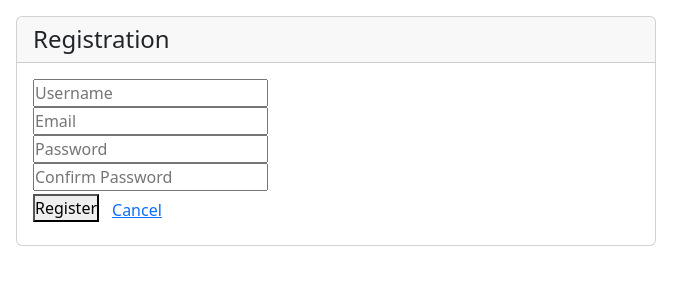
Test: Registration Page › displays error message on invalid credentials
The image size is (673, 303).
Type "testuser" into the field with placeholder "Username". click: (150, 93)
box: x1=33 y1=79 x2=268 y2=107
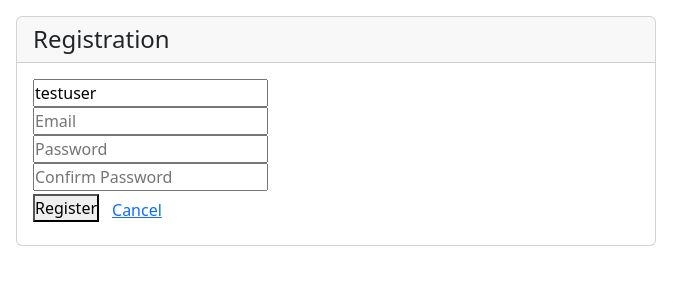
Type "invaliduser@test.com" into the field with placeholder "Email". click: (150, 121)
box: x1=33 y1=107 x2=268 y2=135
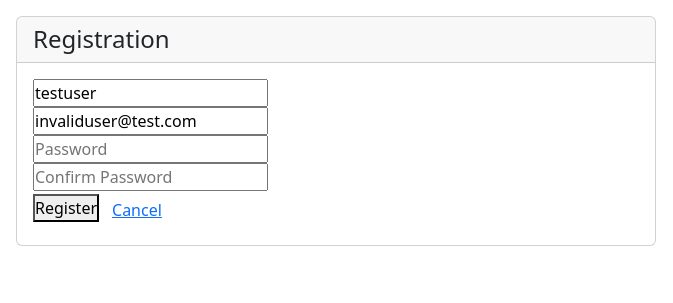
Type "invalidpassword" into the password field with placeholder "Password". click: (150, 149)
box: x1=33 y1=135 x2=268 y2=163
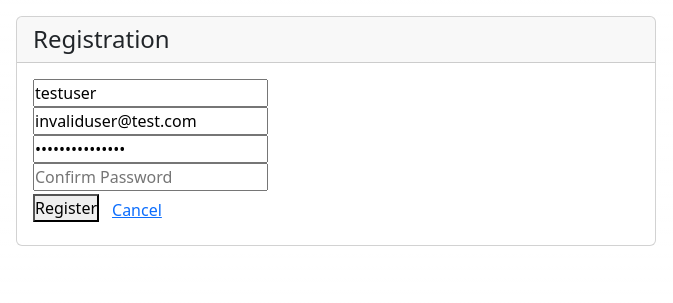
Type "password" into the password field with placeholder "Confirm Password". click: (150, 177)
box: x1=33 y1=163 x2=268 y2=191
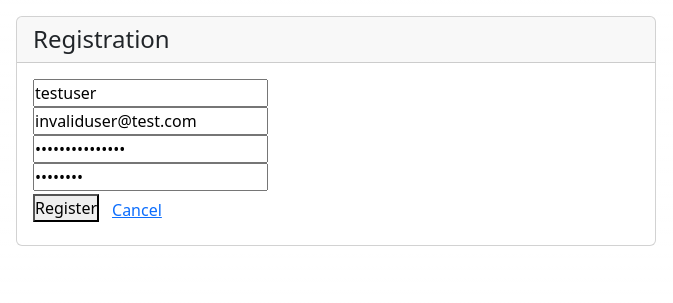
Click the button "Register". click: click(66, 208)
box: x1=33 y1=194 x2=99 y2=222
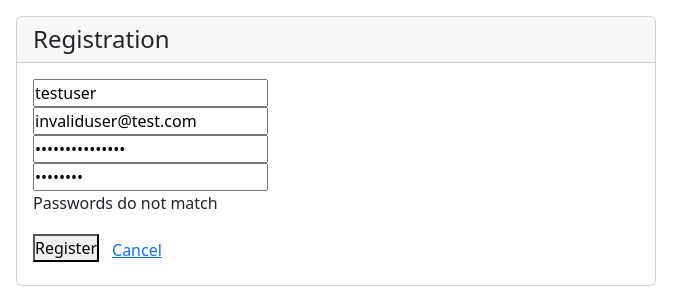
Expected: the text "Passwords do not match" is shown, x1=33 y1=192 x2=218 y2=214
